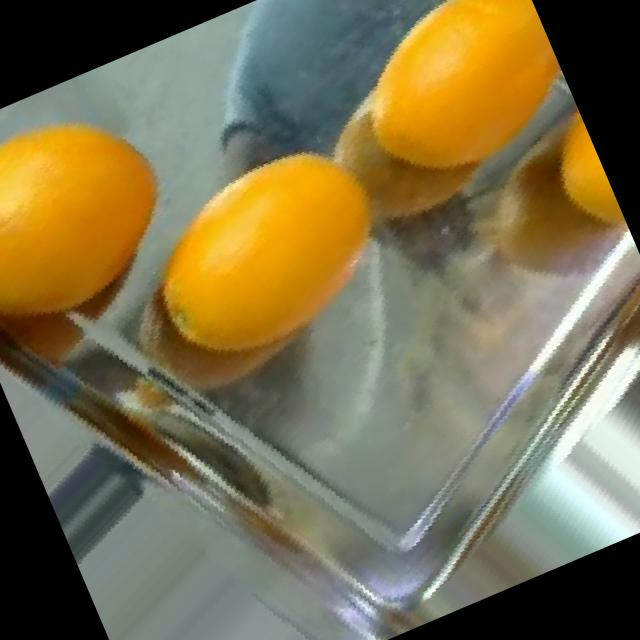Fruit: (31, 414, 187, 583)
